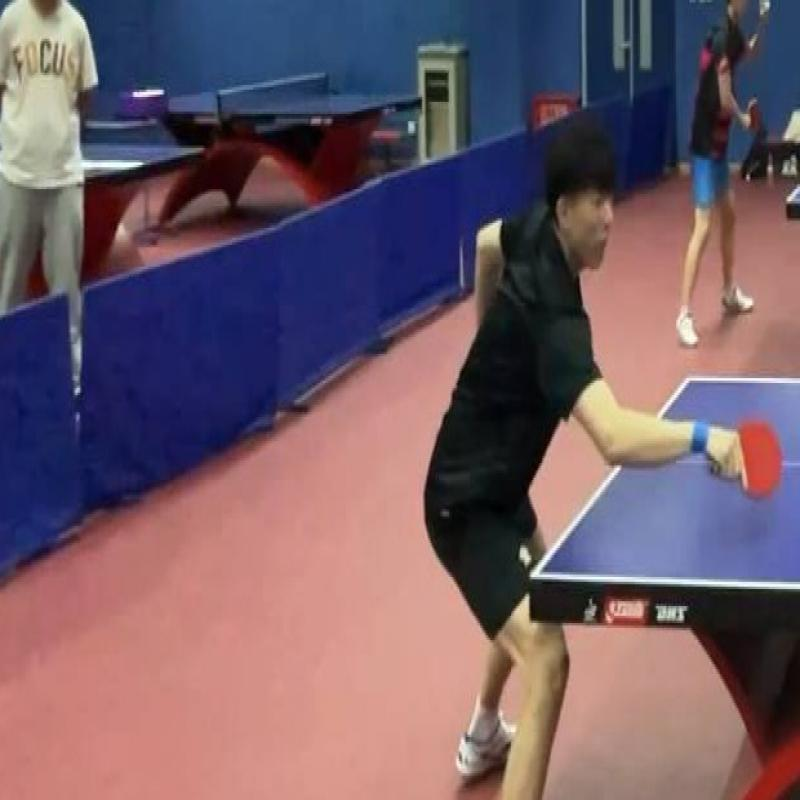bats: (722, 403, 788, 506)
